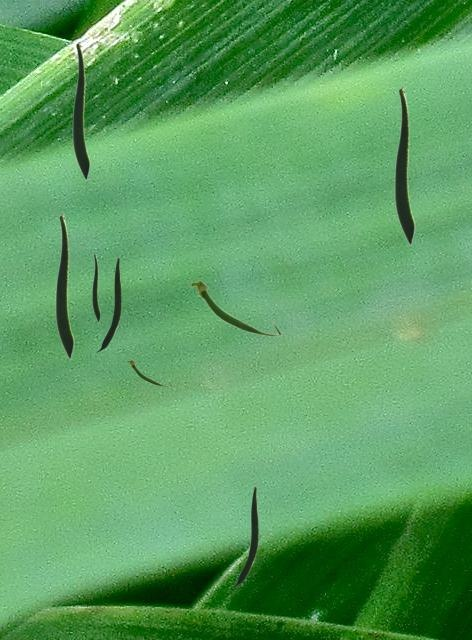french_bean: (189, 279, 281, 336), (394, 86, 414, 244), (55, 213, 73, 358), (232, 486, 257, 586), (72, 41, 89, 179), (96, 257, 120, 351), (126, 359, 171, 386), (92, 253, 99, 321)
